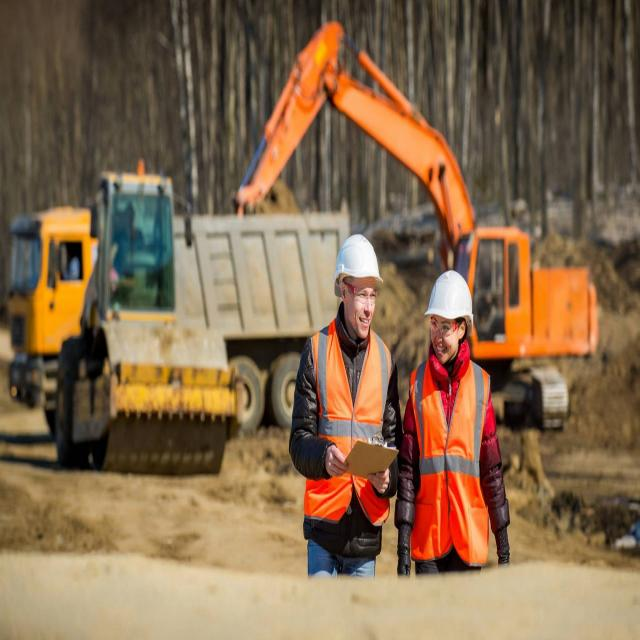Helmet: (425, 271, 475, 330), (334, 236, 384, 294)
Jacket: (308, 329, 392, 518), (415, 363, 489, 562)
